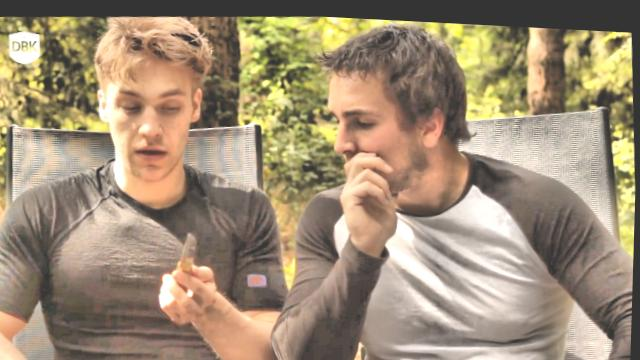knife: (149, 220, 223, 312)
